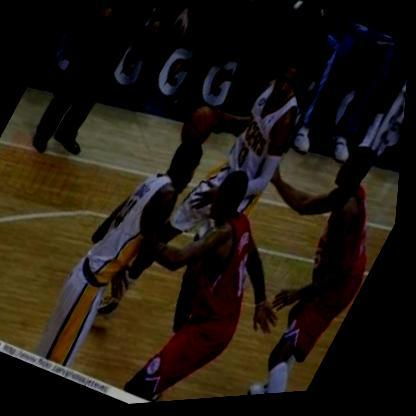basketball: (177, 103, 226, 157)
